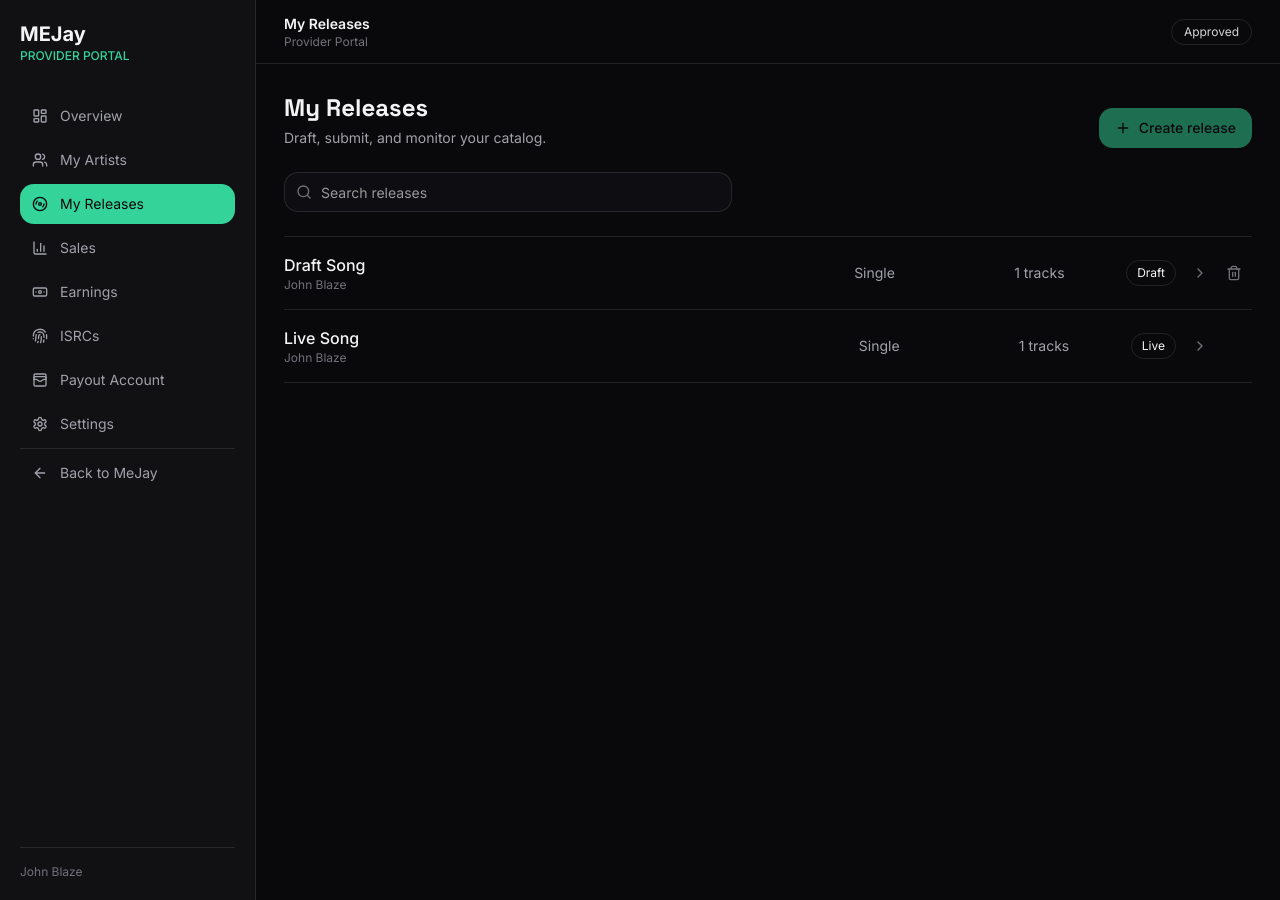
My Releases deletion › offers delete only on drafts and refreshes the list after confirming
This screenshot has width=1280, height=900.
Click the button named "Delete Draft Song": (1234, 273) [1216,255,1252,291]
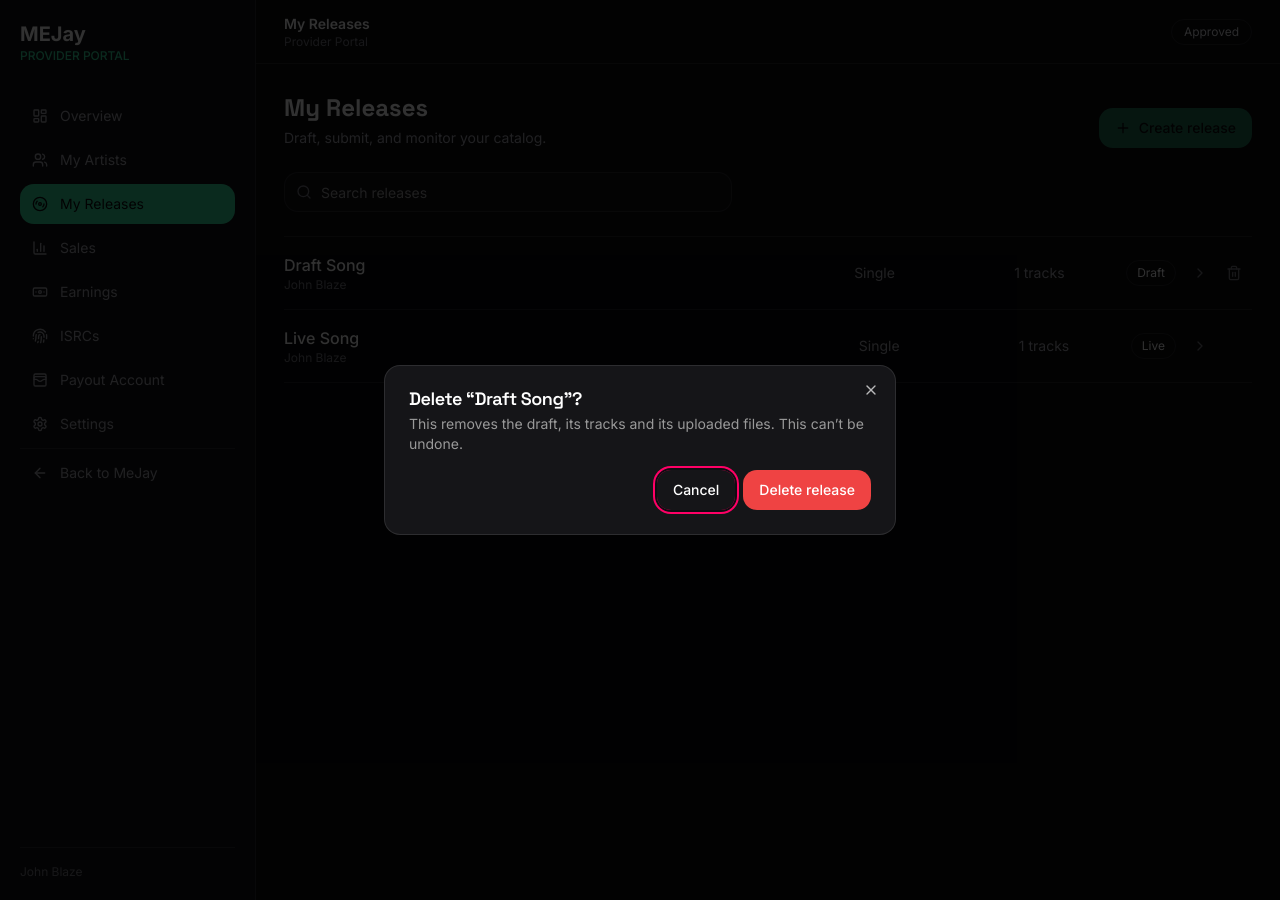
Click the button "Delete release": (807, 490) [743,470,871,510]
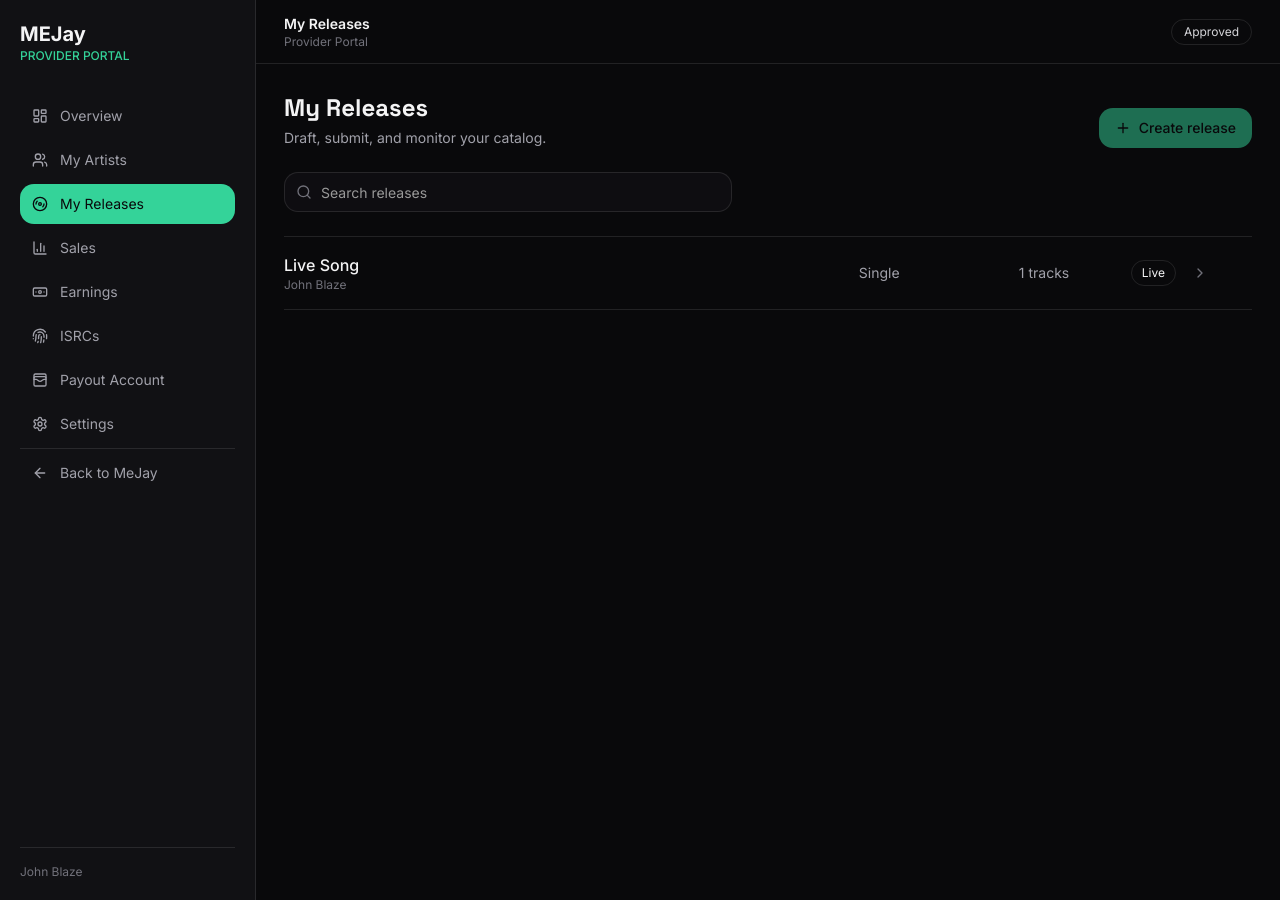
Expected: the text "Live Song" is shown, [284,255,359,275]
Now the button "Draft Song" is gone
